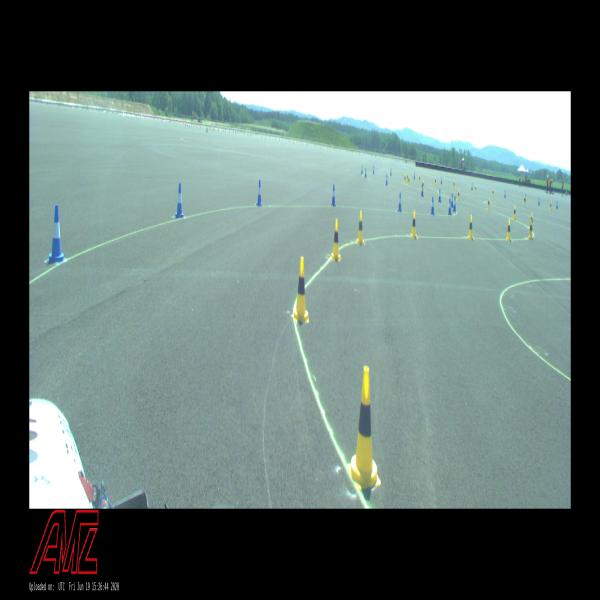blue_cone: (47, 205, 67, 264), (174, 183, 184, 218), (256, 180, 262, 205), (331, 184, 336, 206), (430, 196, 434, 215), (398, 193, 402, 212), (448, 198, 451, 214), (453, 196, 456, 212), (438, 189, 441, 203), (421, 184, 424, 196), (451, 193, 453, 207), (386, 174, 388, 185), (361, 165, 363, 174), (556, 201, 558, 209), (413, 172, 415, 180), (390, 168, 392, 176), (471, 183, 473, 190), (538, 198, 540, 205), (365, 168, 366, 178), (504, 190, 505, 198), (373, 166, 374, 174), (441, 177, 442, 184), (525, 195, 526, 202)
yellow_cone: (347, 366, 381, 490), (294, 257, 309, 322), (331, 220, 341, 261), (357, 212, 364, 244), (410, 210, 417, 238), (468, 215, 473, 240), (506, 219, 511, 242), (528, 220, 532, 239), (512, 205, 516, 220), (487, 198, 490, 210), (531, 213, 533, 229), (458, 190, 460, 201), (422, 180, 424, 191), (492, 188, 494, 197), (434, 178, 436, 186), (418, 174, 420, 182), (523, 196, 525, 204), (408, 176, 409, 186), (404, 174, 405, 183), (454, 180, 455, 188), (475, 185, 476, 193), (550, 201, 551, 209), (407, 174, 408, 182)
